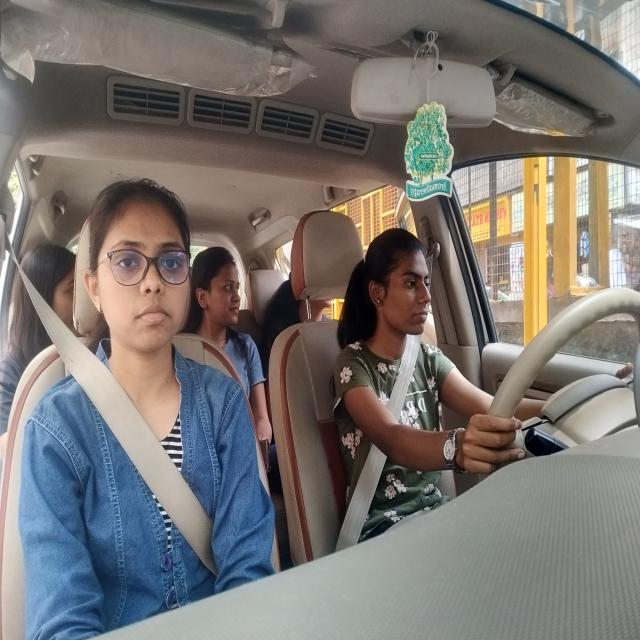person: (84, 174, 192, 361), (364, 219, 437, 354), (25, 237, 79, 343), (196, 239, 243, 339)
